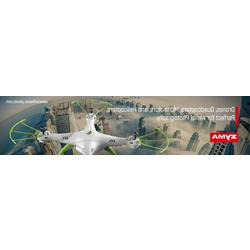drone: (8, 100, 171, 155)
